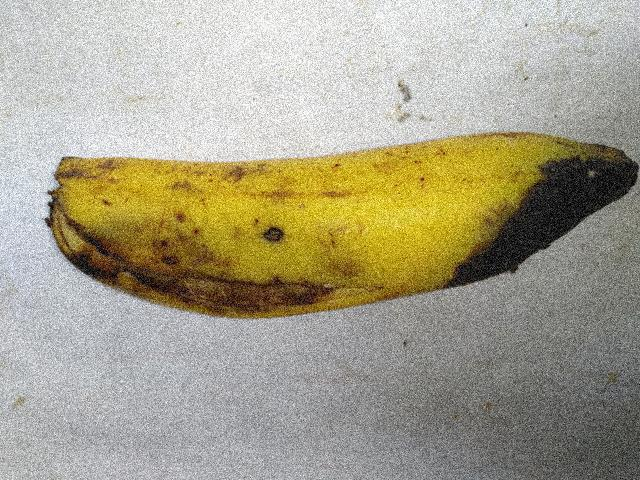rotten: (33, 206, 358, 355), (411, 114, 639, 324)
